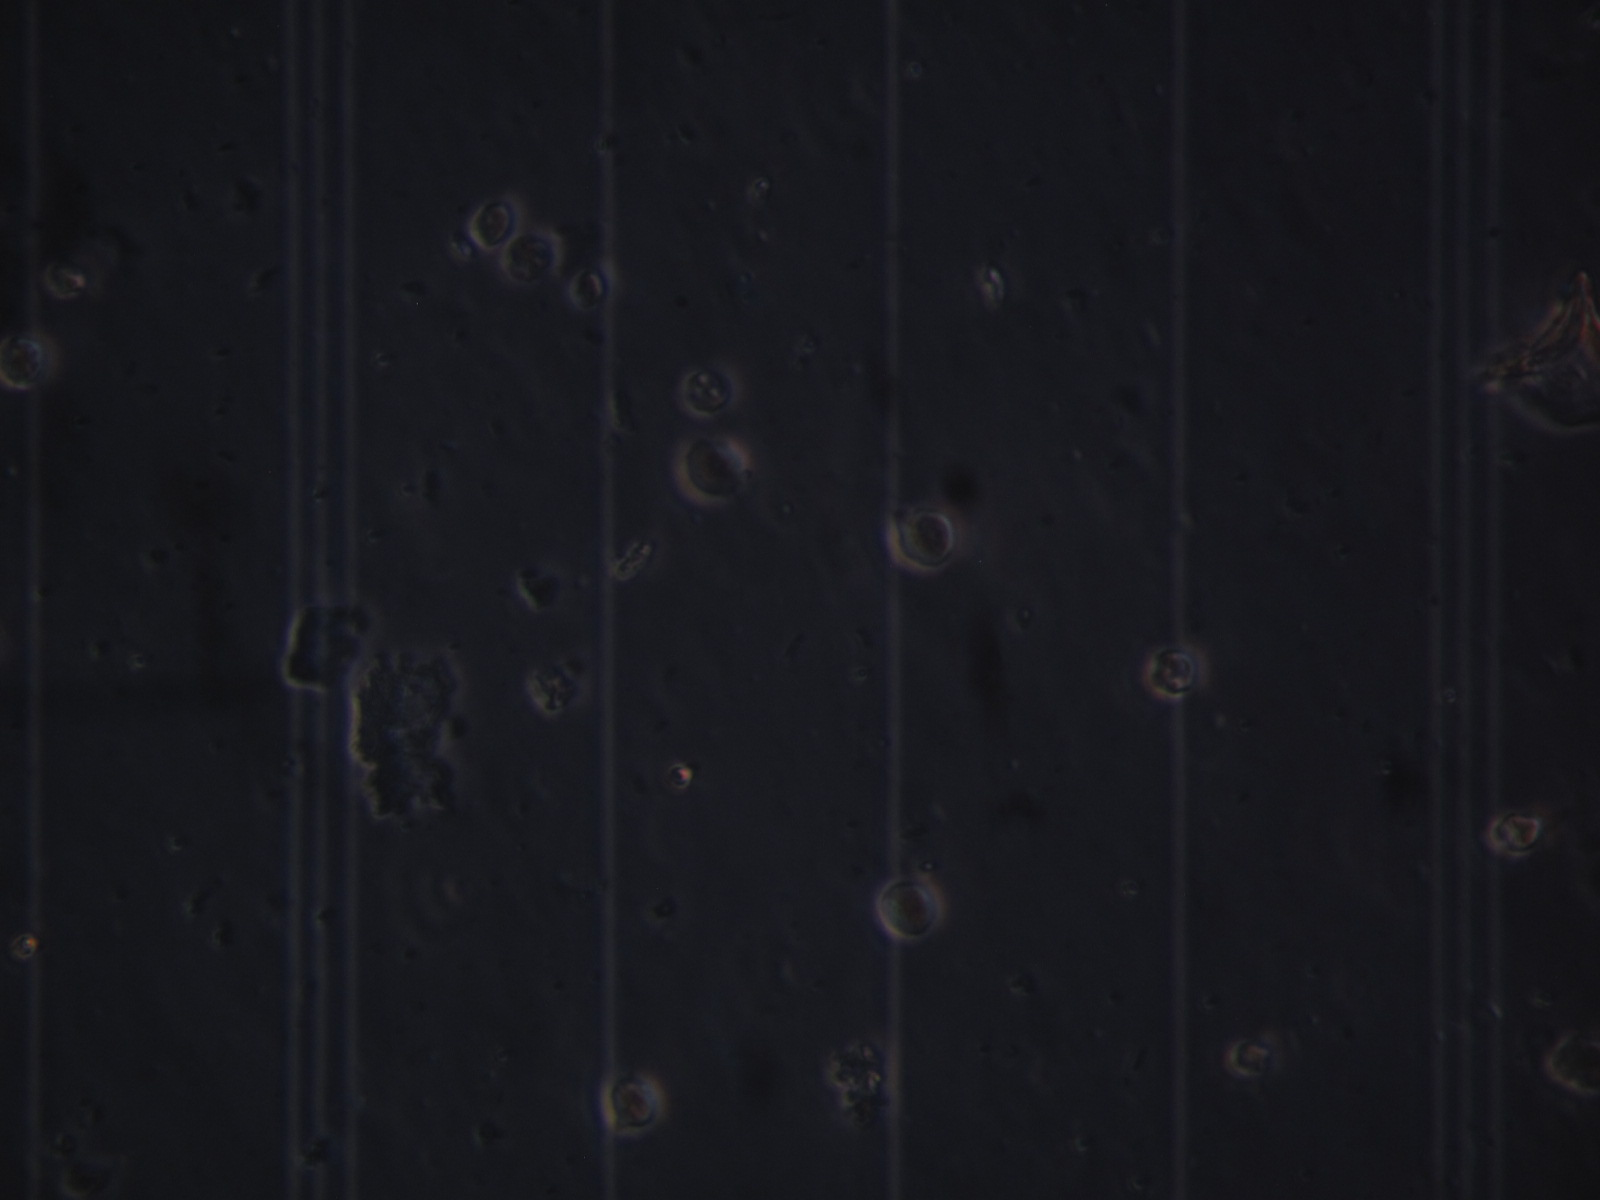hemo: (891, 497, 966, 570), (598, 1066, 668, 1138), (874, 874, 944, 945), (682, 436, 747, 504), (503, 224, 564, 287), (1545, 1027, 1600, 1095), (1145, 639, 1207, 700), (1, 329, 55, 391), (466, 195, 525, 250), (525, 662, 587, 712), (683, 366, 745, 415), (1225, 1029, 1281, 1079), (1493, 809, 1545, 857), (567, 263, 615, 310)
